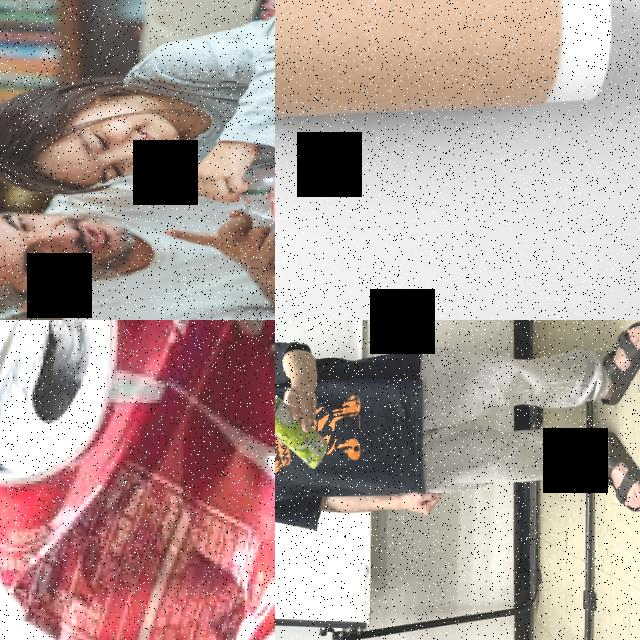can: (275, 392, 327, 469)
cup: (275, 0, 610, 136), (240, 159, 275, 226)
